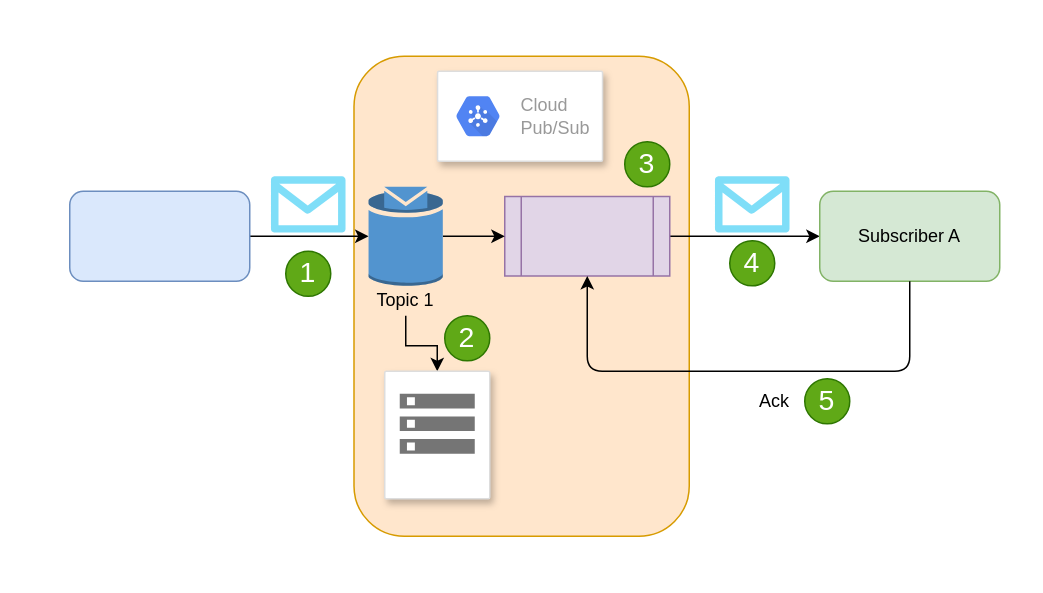
This 1043x593 diagram has some shape labels left out. Each missing label, with the centre of its shape:
"Publisher 1" goes at (x=159, y=235).
"Storage" goes at (x=438, y=436).
"Subscription 1" goes at (x=586, y=235).
